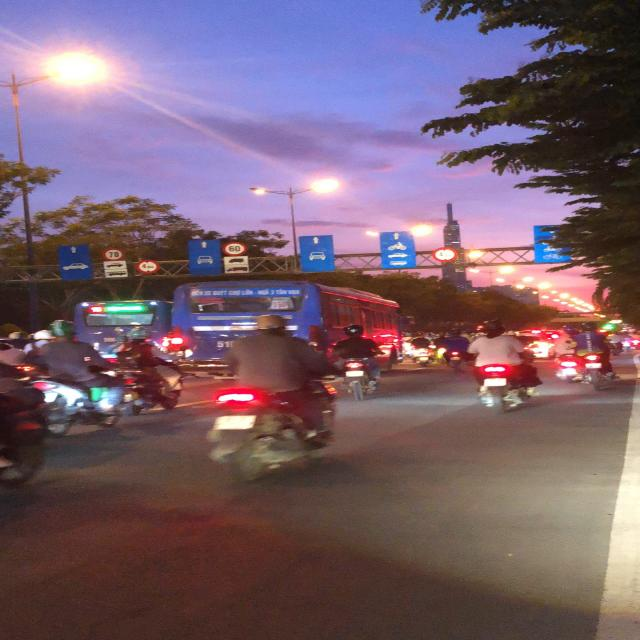Bien bao han che chieu cao: (136, 259, 160, 273)
Bien bao toc do toi da cho phep: (102, 246, 126, 262), (222, 242, 248, 256)
